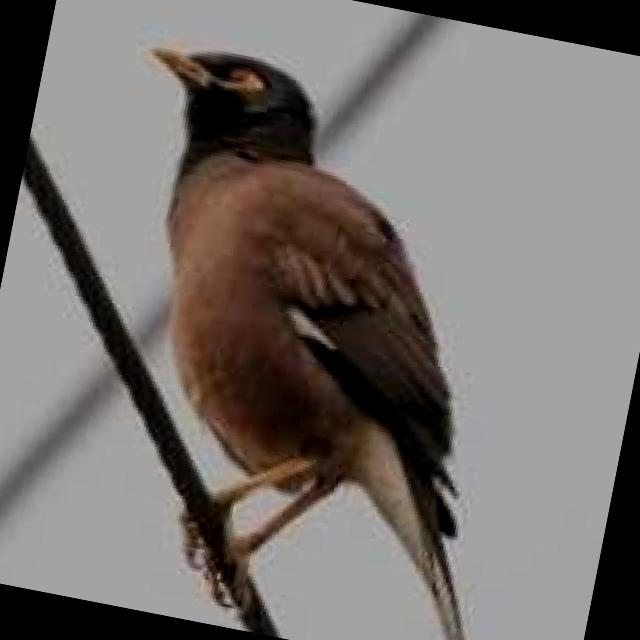bird: (43, 27, 578, 640)
